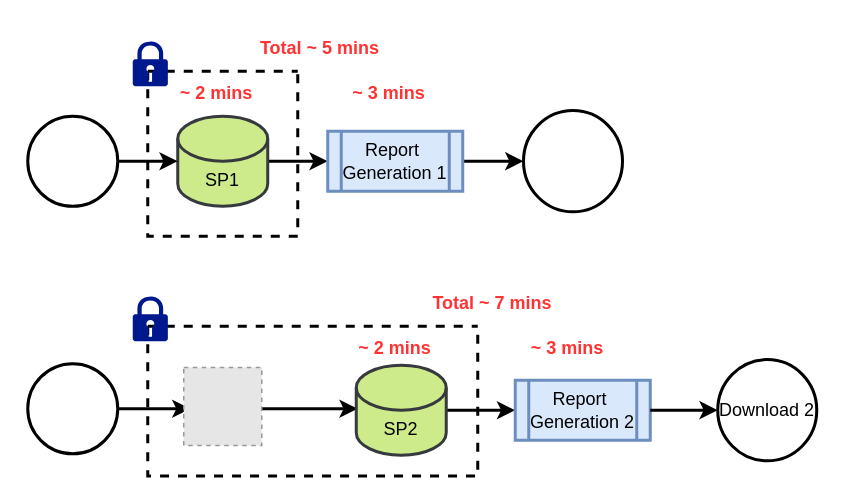
This 843x503 diagram has some shape labels left out. Grey dashed boxes stand in for pictures. The shapes that lost their labels are listed below. From the top down, each one's box as (x1, y1, x2, y2) in pixels, then its label:
(26, 114, 118, 207): User 1
(521, 108, 623, 213): Download 1
(26, 362, 118, 454): User 2
